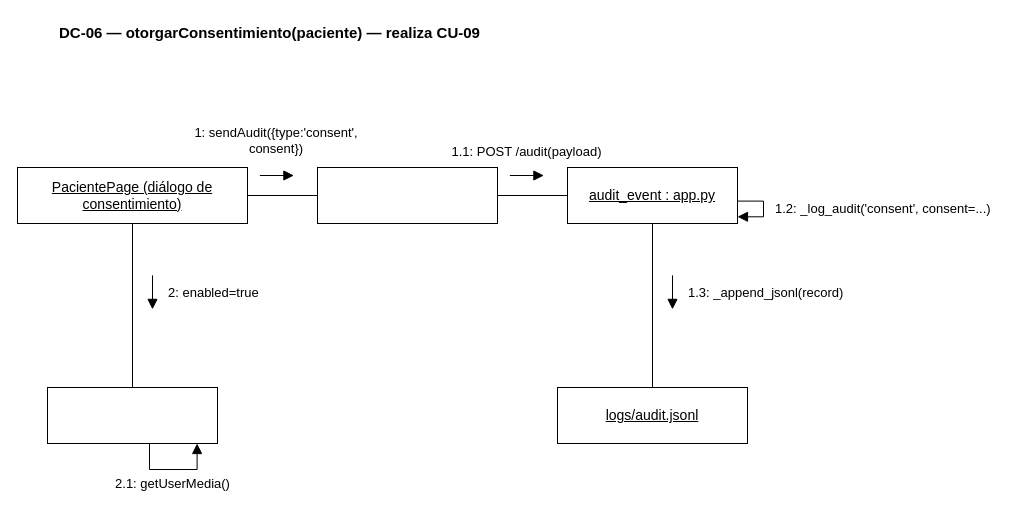
The diagram is 1021 pixels wide and 510 high, and some of its shapes have lost their labels. Each missing label, with the centre of its shape:
:useMediaPipe: the point at 132,415
sendAudit() : audit.ts: the point at 407,195
